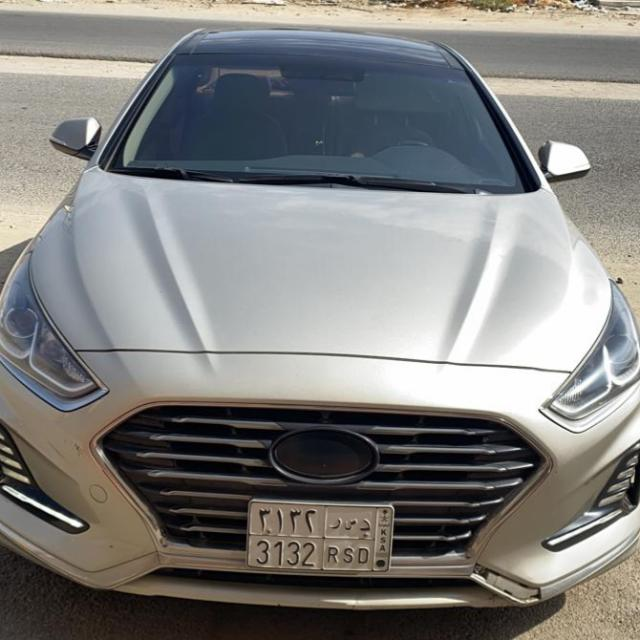license_plate: (242, 496, 396, 574)
